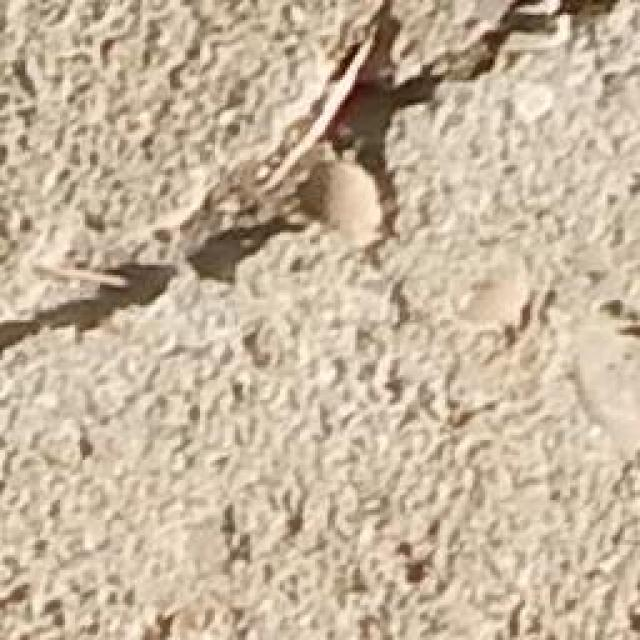concrete-crack: (0, 0, 640, 361)
